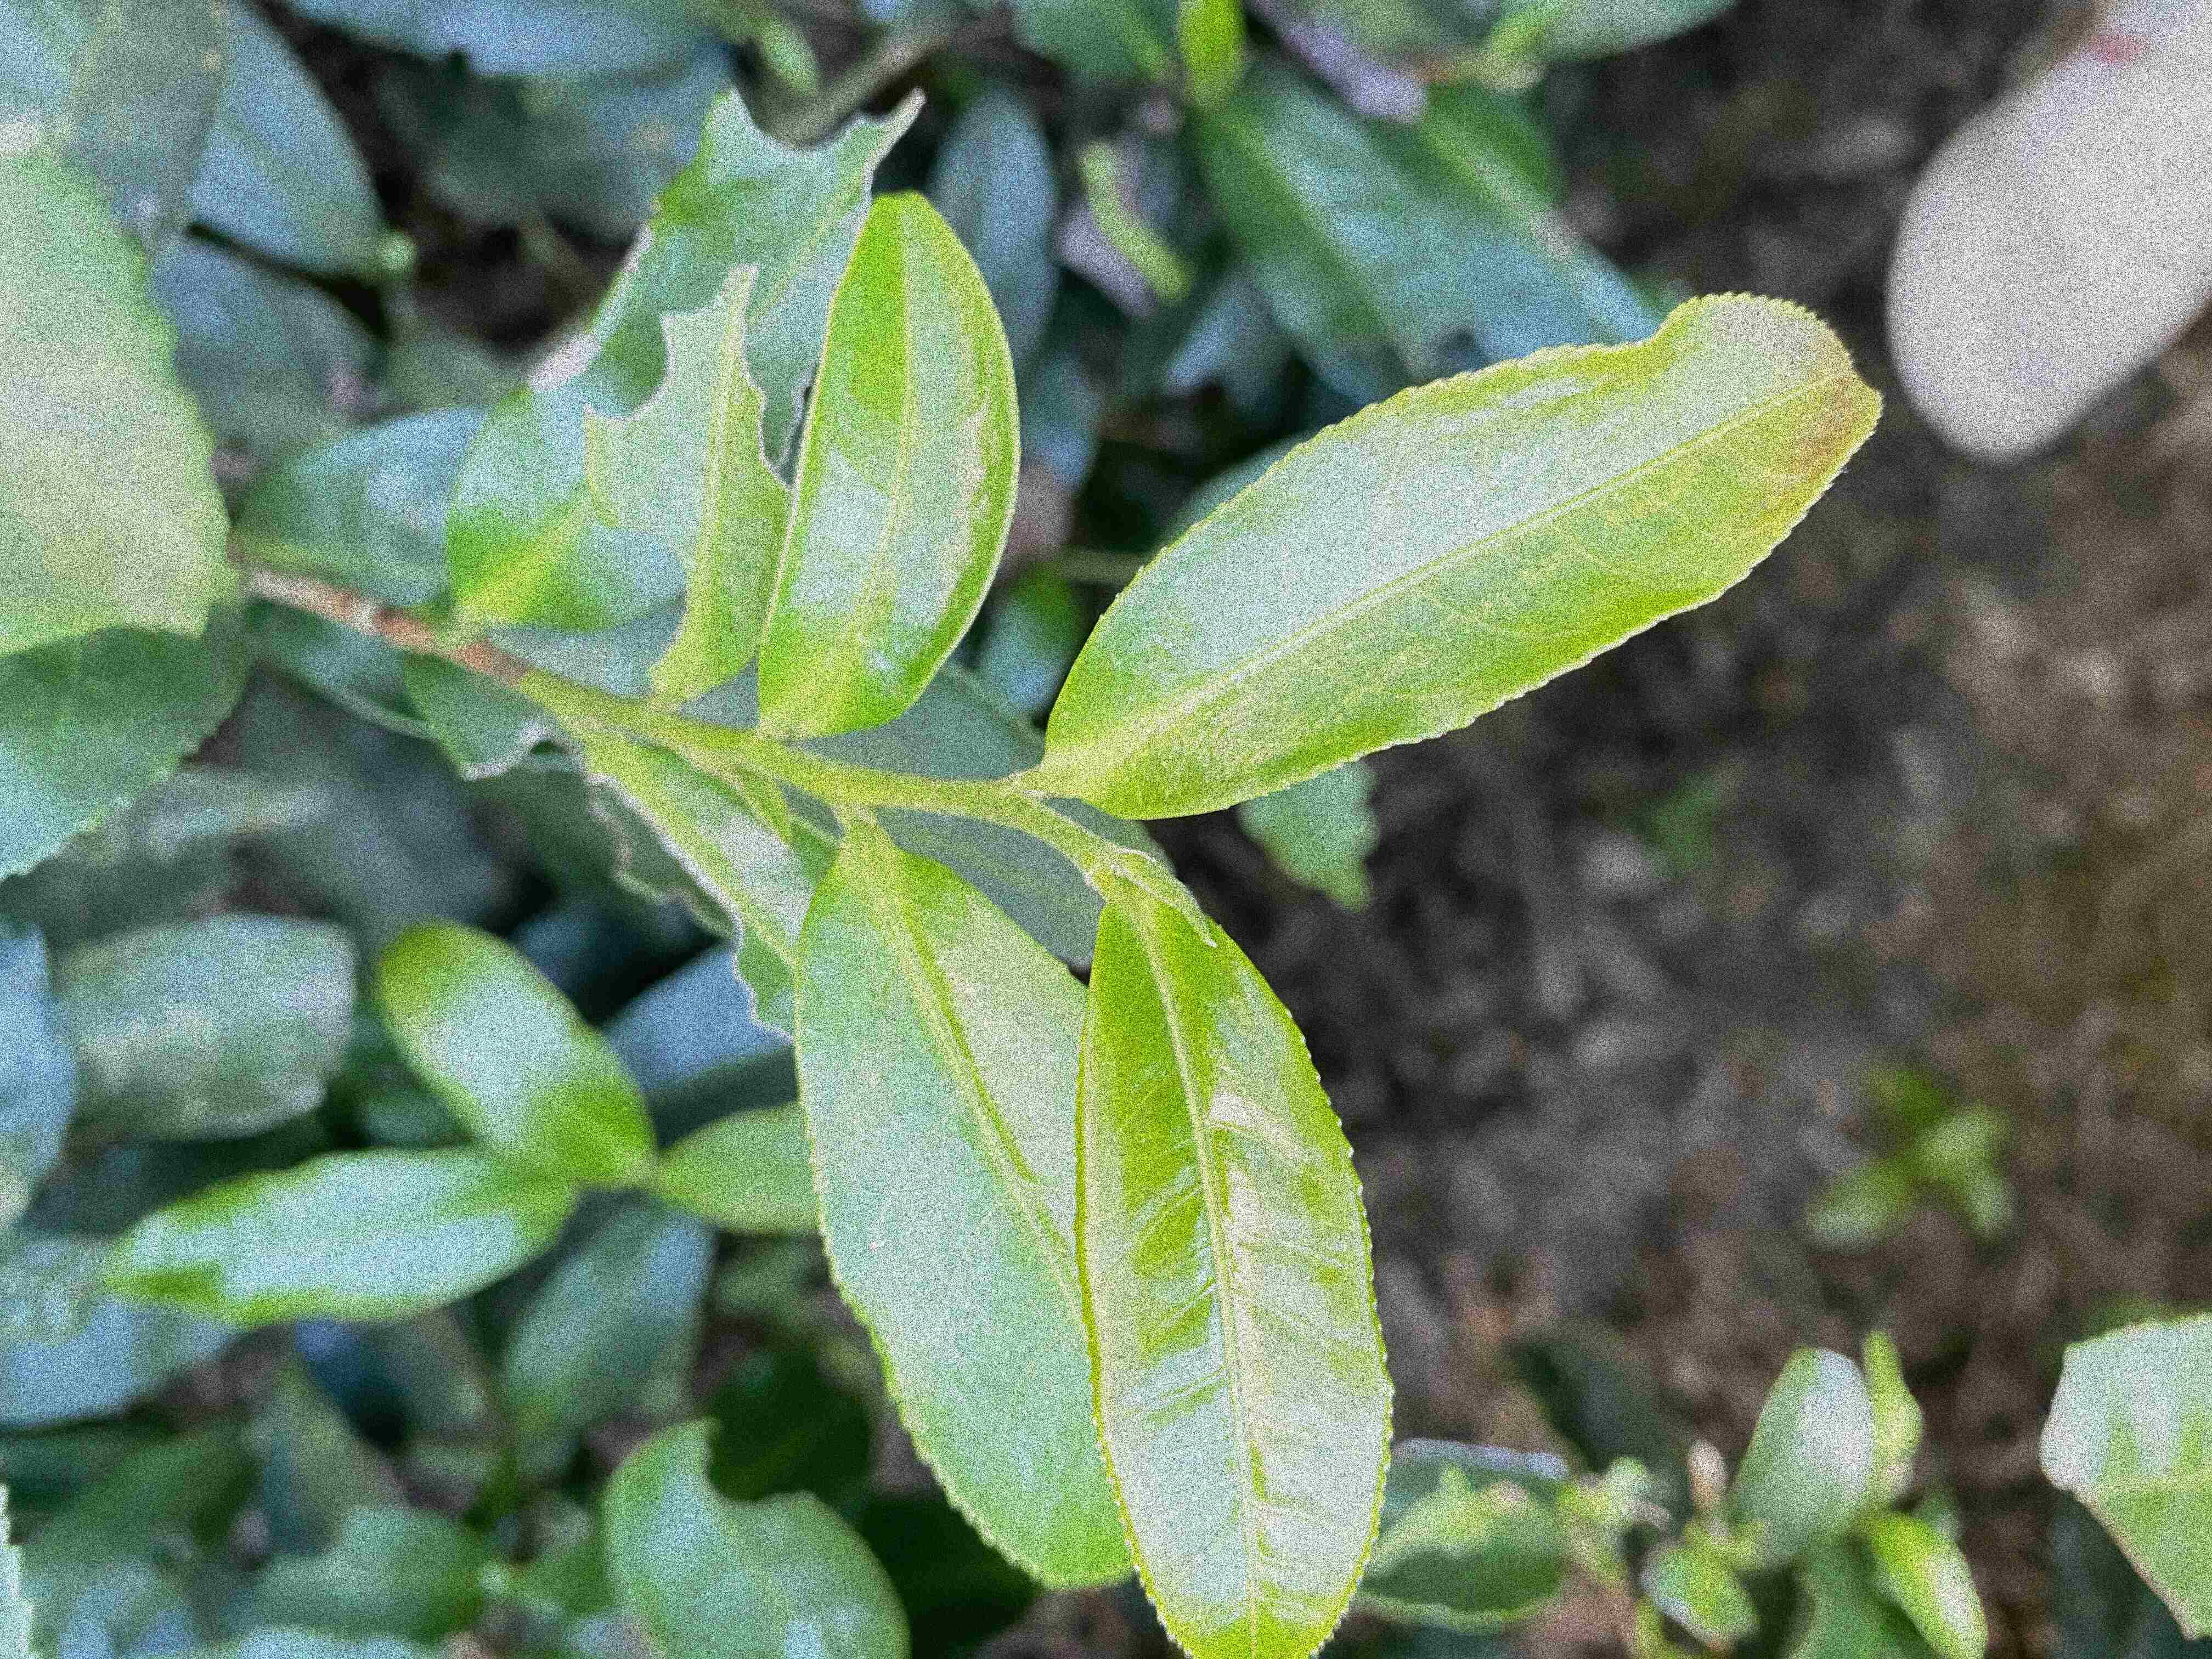chihuo_high: (580, 260, 794, 701)
healthy: (1042, 286, 1886, 819), (794, 835, 1137, 1591), (1069, 884, 1400, 1657), (758, 183, 1021, 742)
